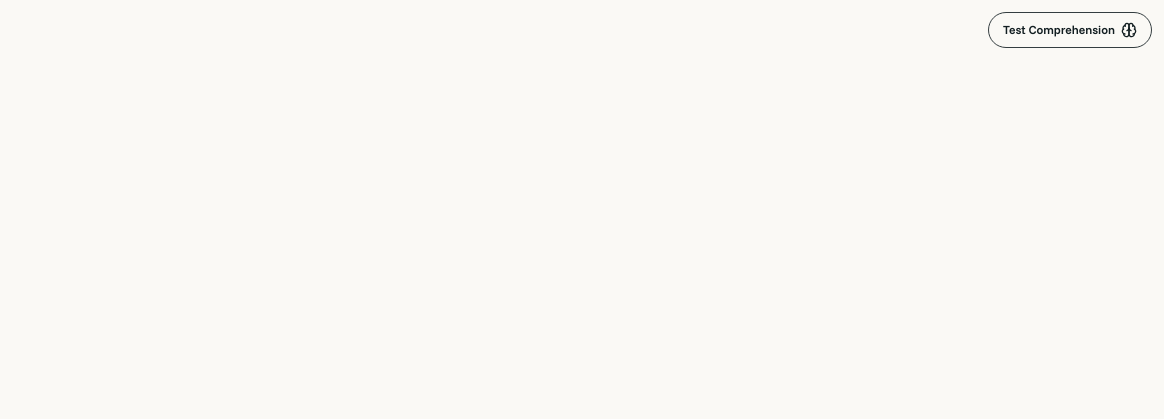
Test: answering a question › explains the answer either way
This screenshot has width=1164, height=419.
What coordinates should you click on to do the following:
click the button "Test Comprehension"
I would click on:
 (1070, 30)
Its box is [988,12,1152,48].
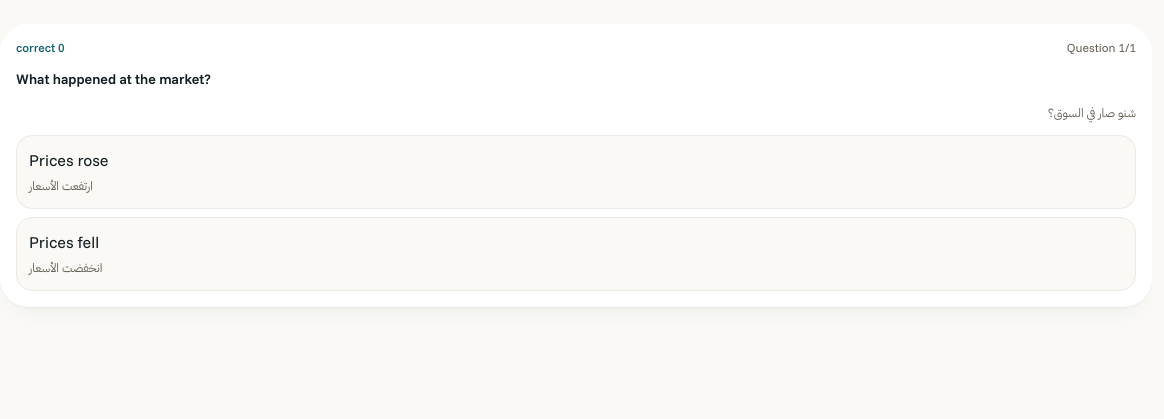
Result: the text "Question 1/1" is shown at [1067,40,1136,56]
What coordinates should you click on to do the following:
click the button "Prices fell انخفضت الأسعار"
I would click on:
 (64, 242)
Its box is [16,217,1136,291].
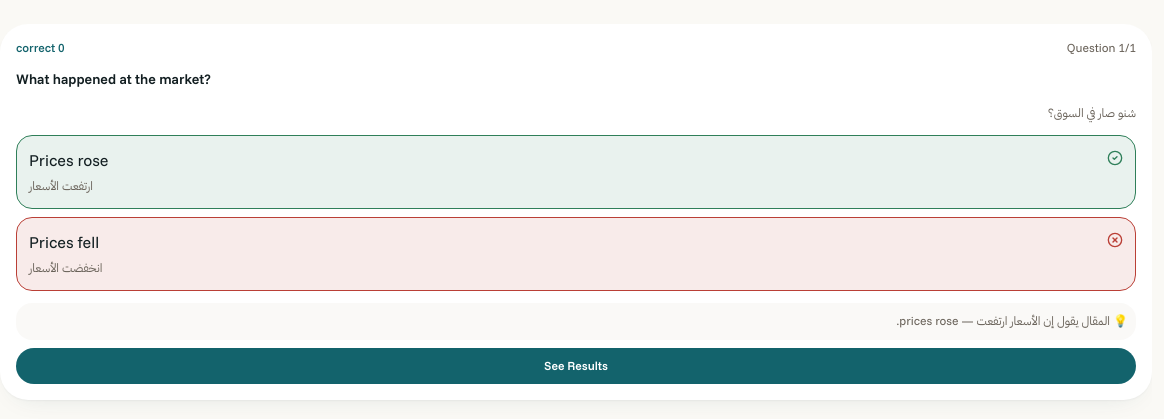
Result: the text "💡 المقال يقول إن الأسعار ارتفعت — prices rose." is shown at [16,303,1136,340]
